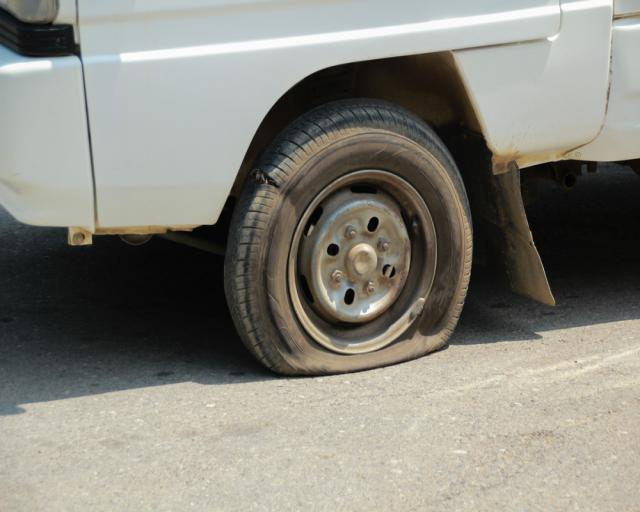tire flat: (226, 91, 472, 376)
